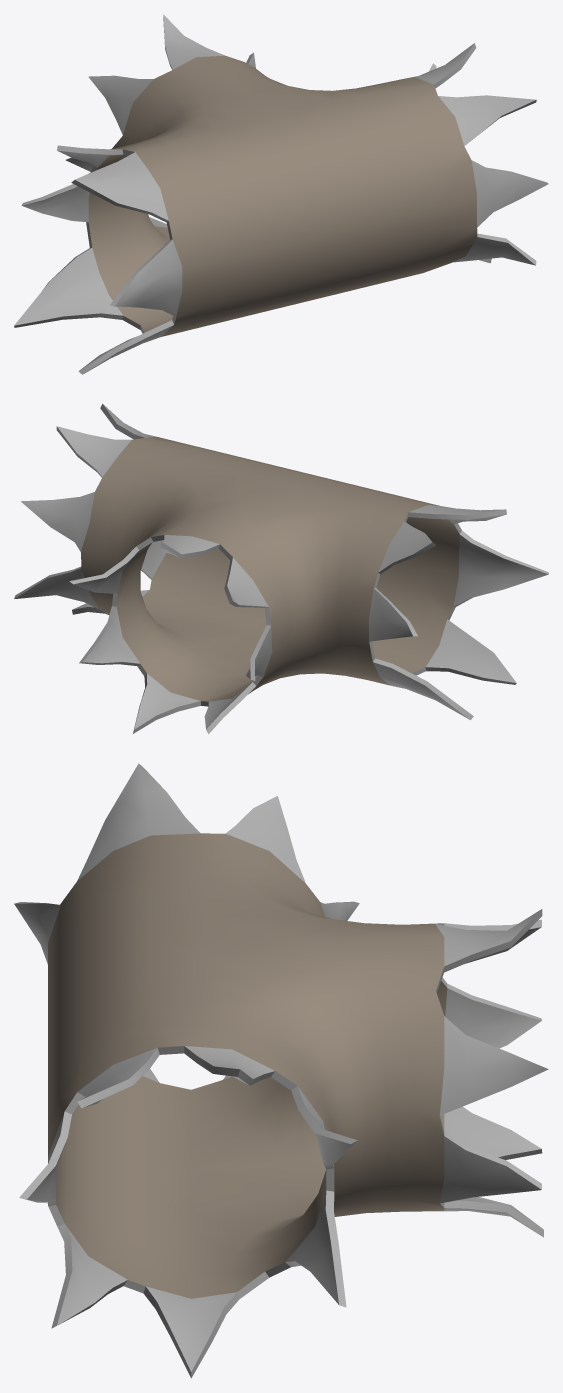
The model's file is mesh_CanoTRoto.fbx.
3 views of the same model, one above another, from view 1: azimuth 30°, elevation 25°; view 2: azimuth 150°, elevation 25°; view 3: azimuth 270°, elevation 25° (orthographic). The views are drawn at different scales.
Parts seen in each view (by area): view 1: mesh_CanoTRoto; view 2: mesh_CanoTRoto; view 3: mesh_CanoTRoto.
Part boxes in pixels (x1=…): mesh_CanoTRoto: x1=14, y1=14, x2=548, y2=374; mesh_CanoTRoto: x1=14, y1=403, x2=548, y2=734; mesh_CanoTRoto: x1=14, y1=763, x2=548, y2=1378.
Bounding box in the file's own units: 4289 × 1919 × 2925.
